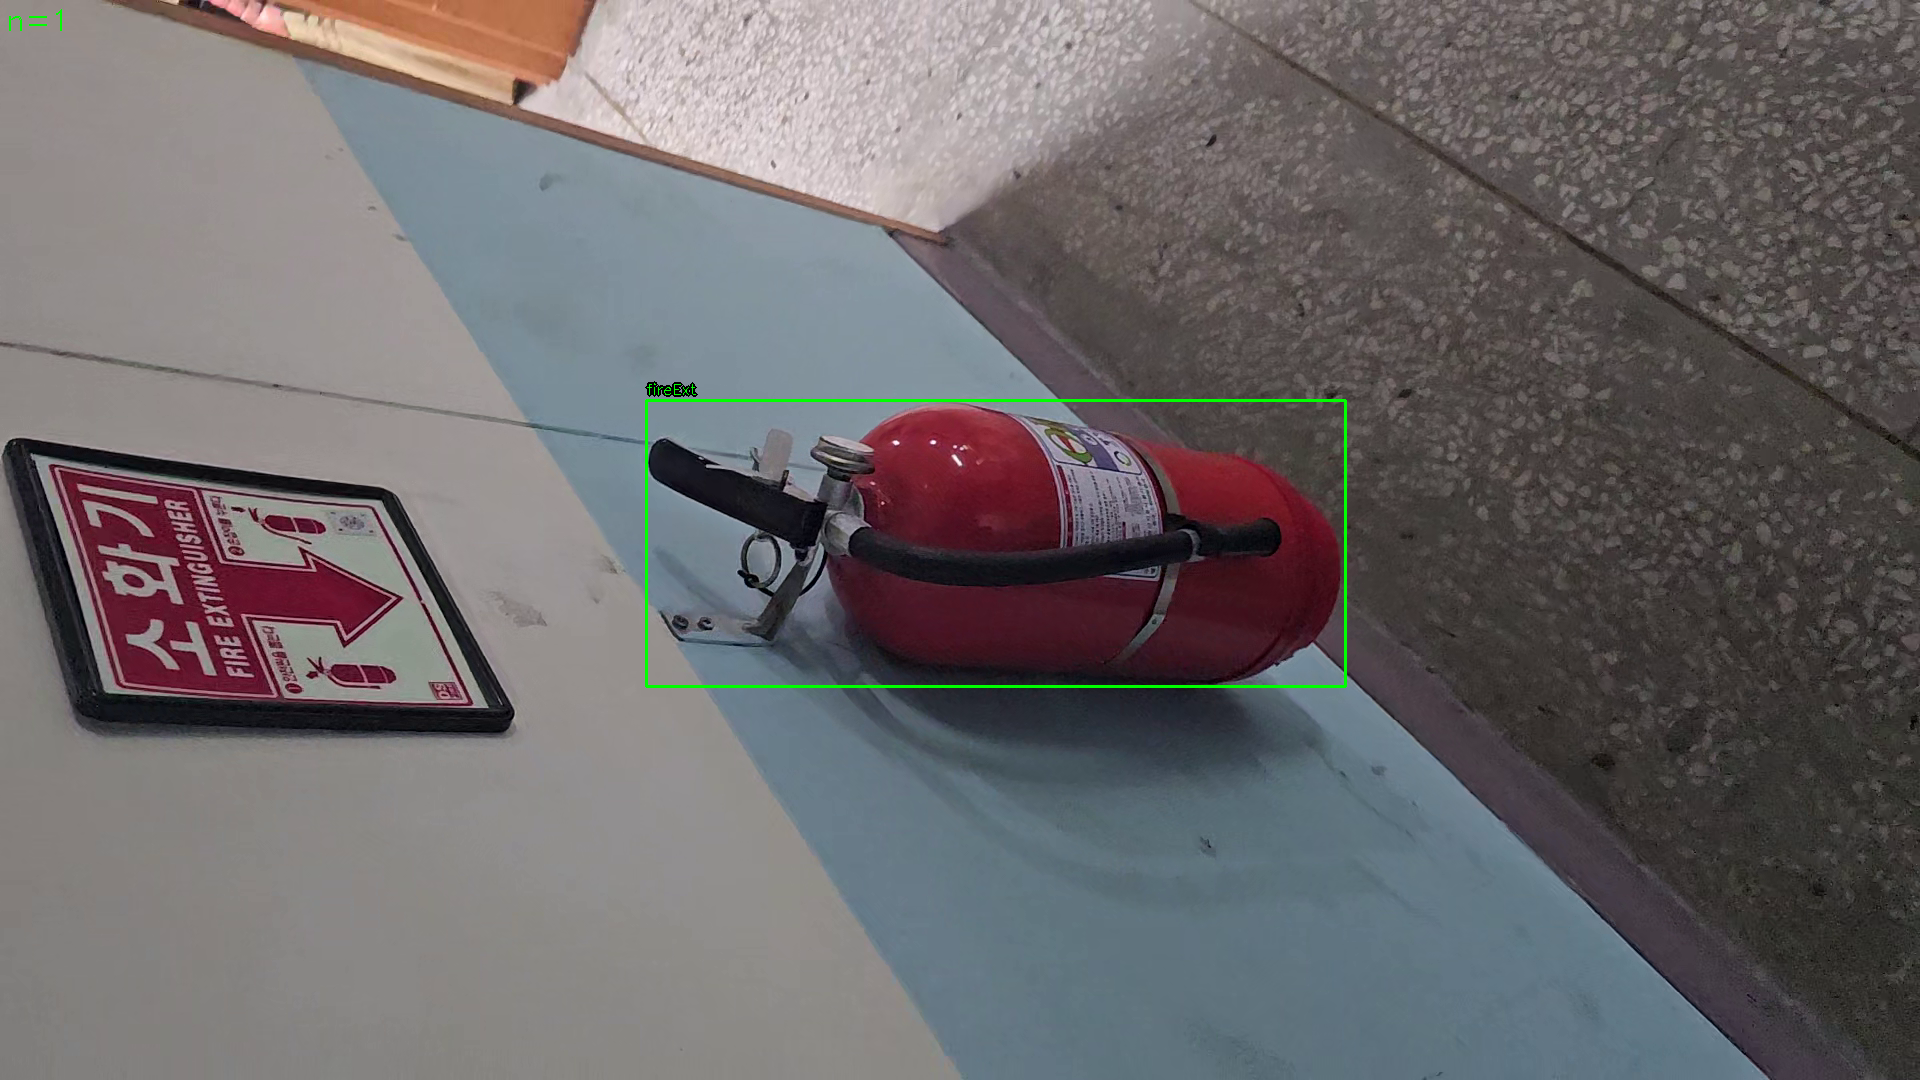lane: (646, 400, 1346, 687)
